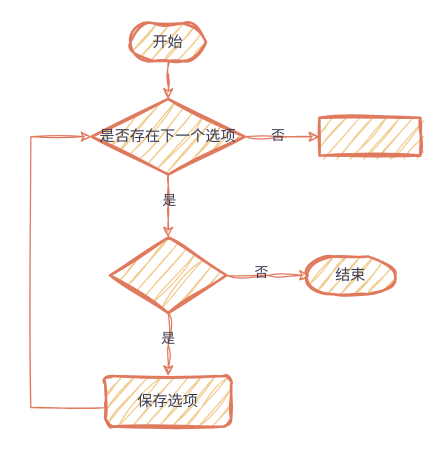
Image size: 444x449. Some labels were removed from this diagram. The shapes that lost their labels are listed below. From the top down, each one's centre as x and y in pixels, then its label:
At point (369, 136): "记录参数".
At point (167, 275): "是否合法".
